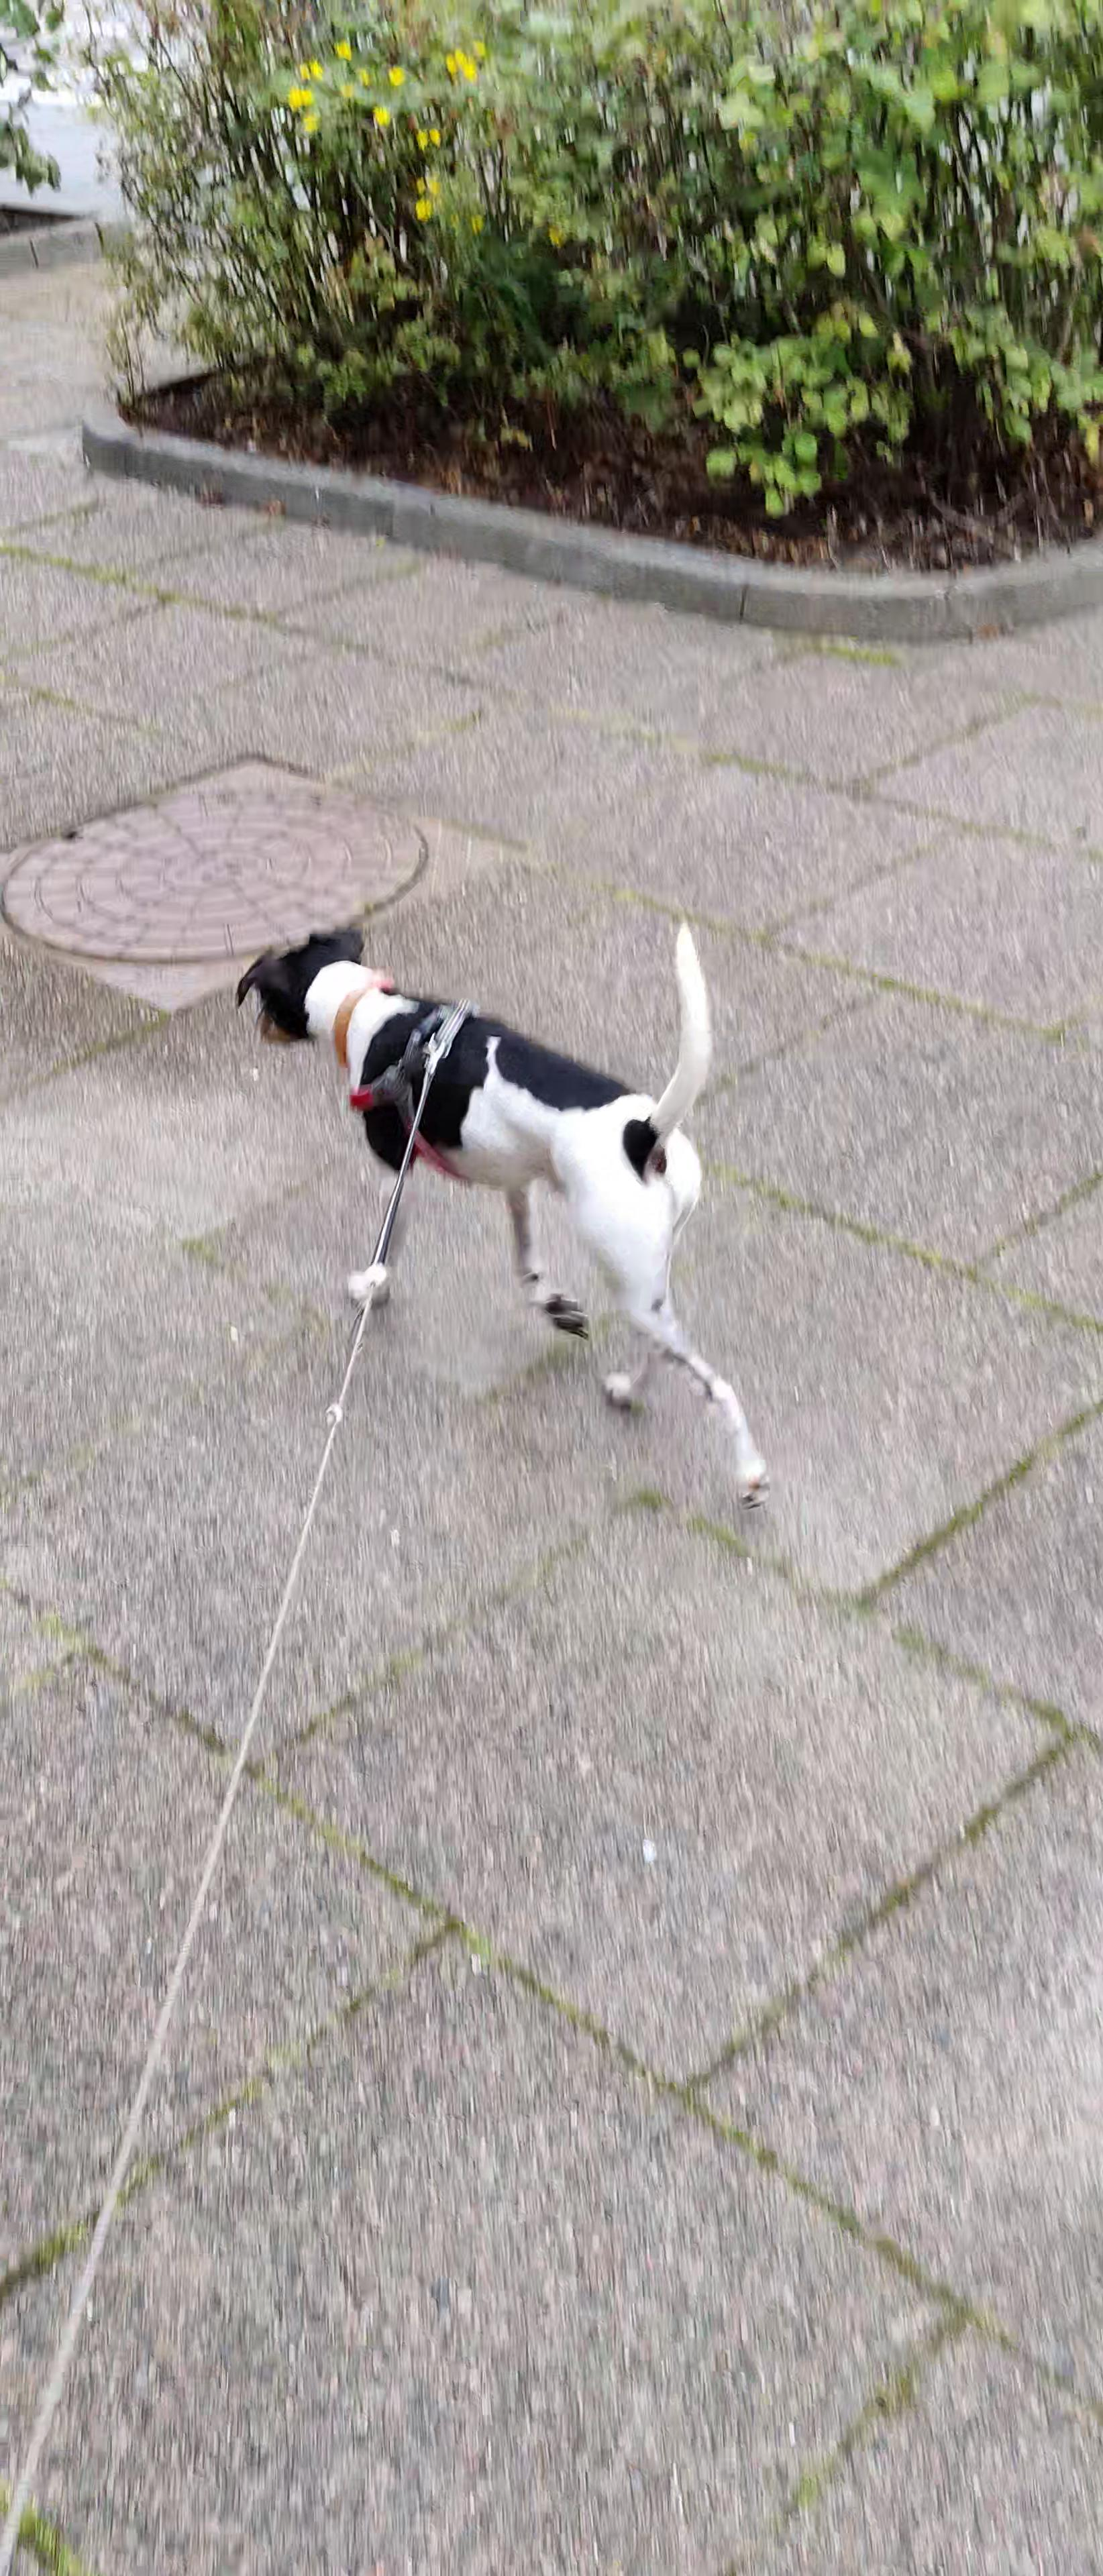Dog: (230, 904, 786, 1525)
